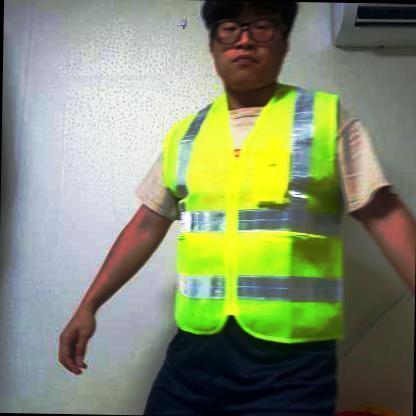no-helmet: (199, 0, 304, 53)
vest: (162, 83, 347, 344)
